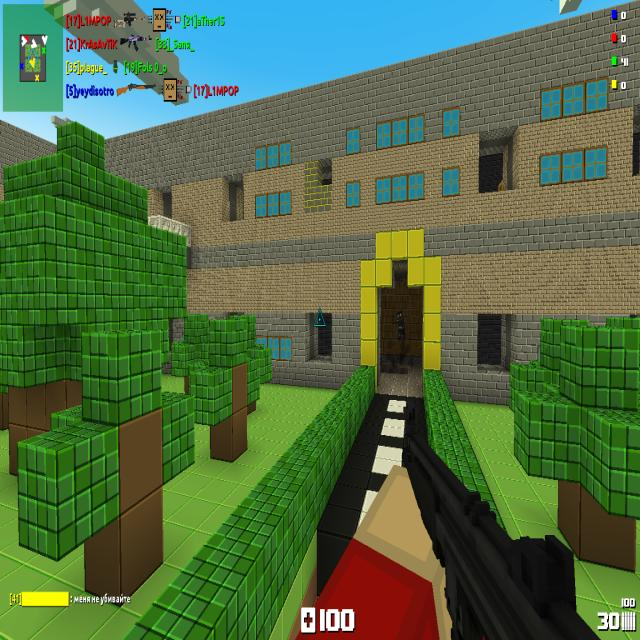enemy: (396, 310, 406, 341)
